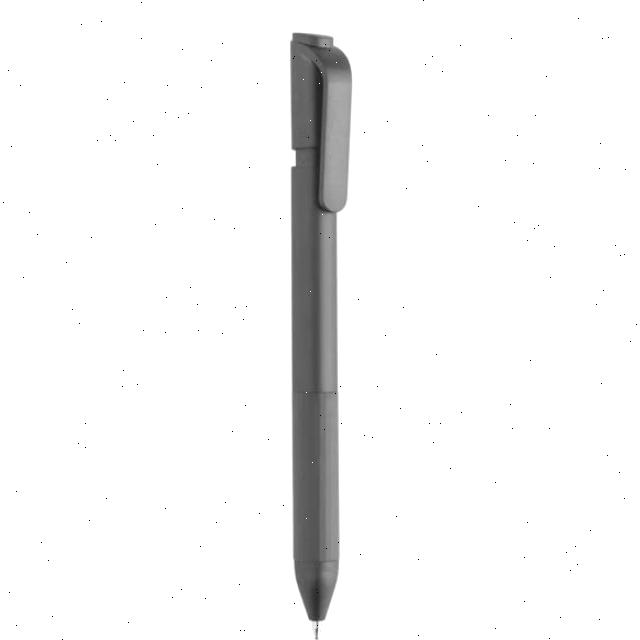pencil: (260, 20, 380, 640)
